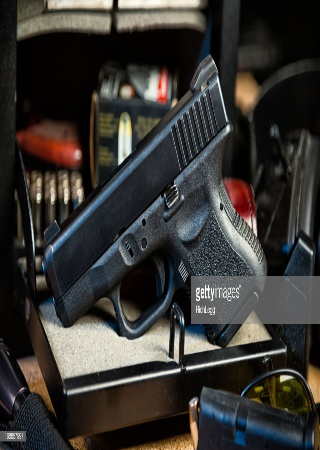handgun: (44, 44, 270, 342)
